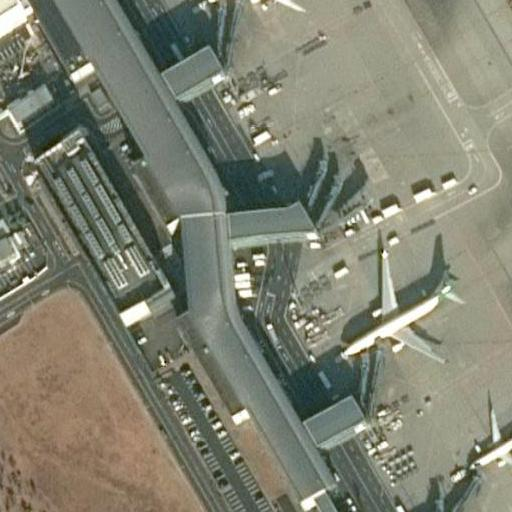Aircraft: (333, 247, 464, 376), (460, 410, 512, 471), (197, 0, 318, 19)
